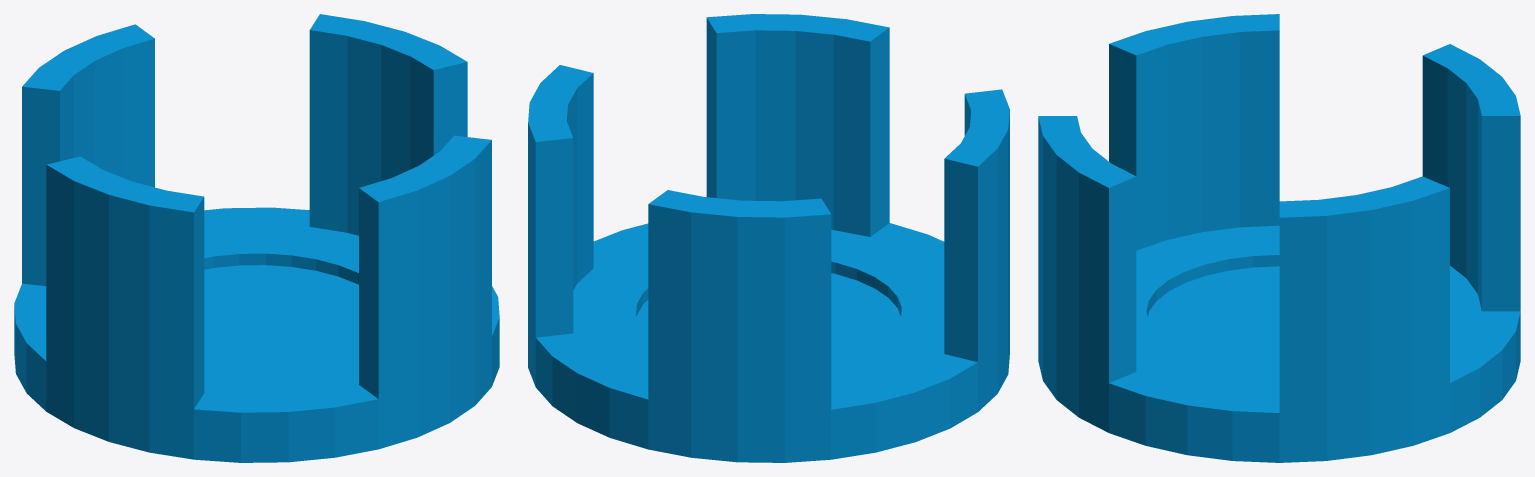
File: CreationPortal.fbx
The picture shows the model from 3 angles, left to right: view 1: azimuth 30°, elevation 25°; view 2: azimuth 150°, elevation 25°; view 3: azimuth 270°, elevation 25°; orthographic projection.
Parts seen in each view (by area): view 1: Cylinder; view 2: Cylinder; view 3: Cylinder.
Part boxes in pixels (x1,y1,x2,y2): Cylinder: (14,14,499,462); Cylinder: (528,14,1009,462); Cylinder: (1038,14,1520,462).
Bounding box in the file's own units: 200 × 112 × 200.
